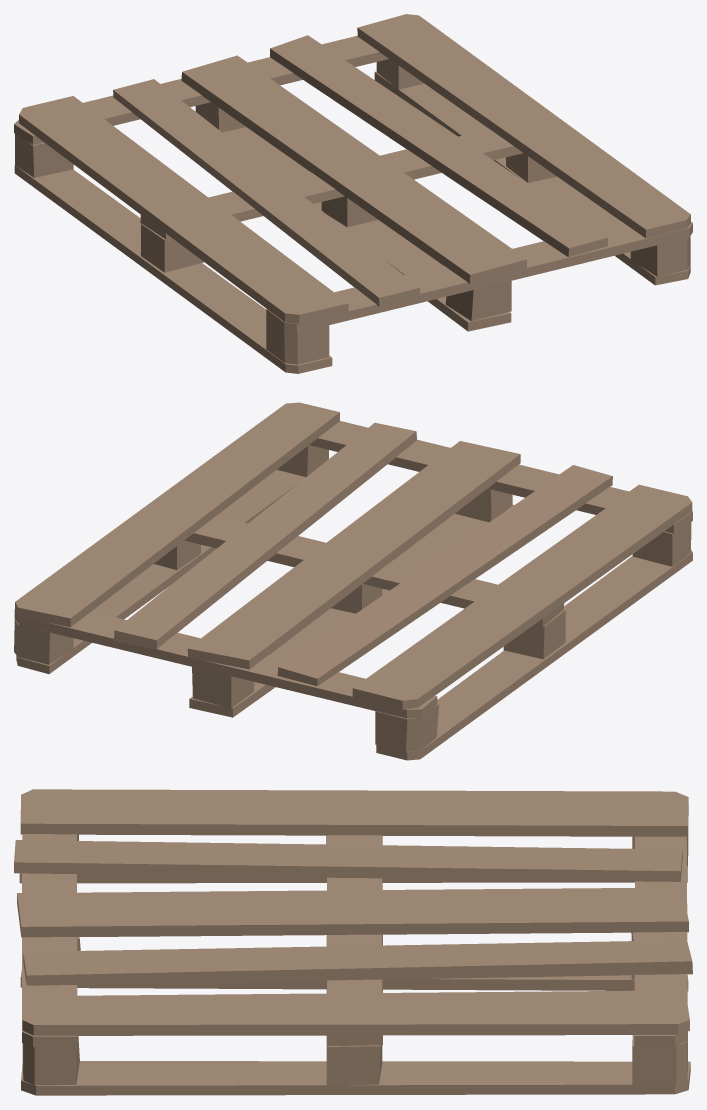
The picture shows the model from 3 angles, top to bottom: view 1: azimuth 30°, elevation 25°; view 2: azimuth 150°, elevation 25°; view 3: azimuth 270°, elevation 25°; orthographic projection. The views are drawn at different scales.
Parts seen in each view (by area): view 1: pCube26; view 2: pCube26; view 3: pCube26.
Part boxes in pixels (bbox=[...]): pCube26: bbox=[14, 14, 692, 373]; pCube26: bbox=[14, 402, 692, 760]; pCube26: bbox=[14, 789, 692, 1095].
Size of the model in its own units: 101 by 14.41 by 122.
